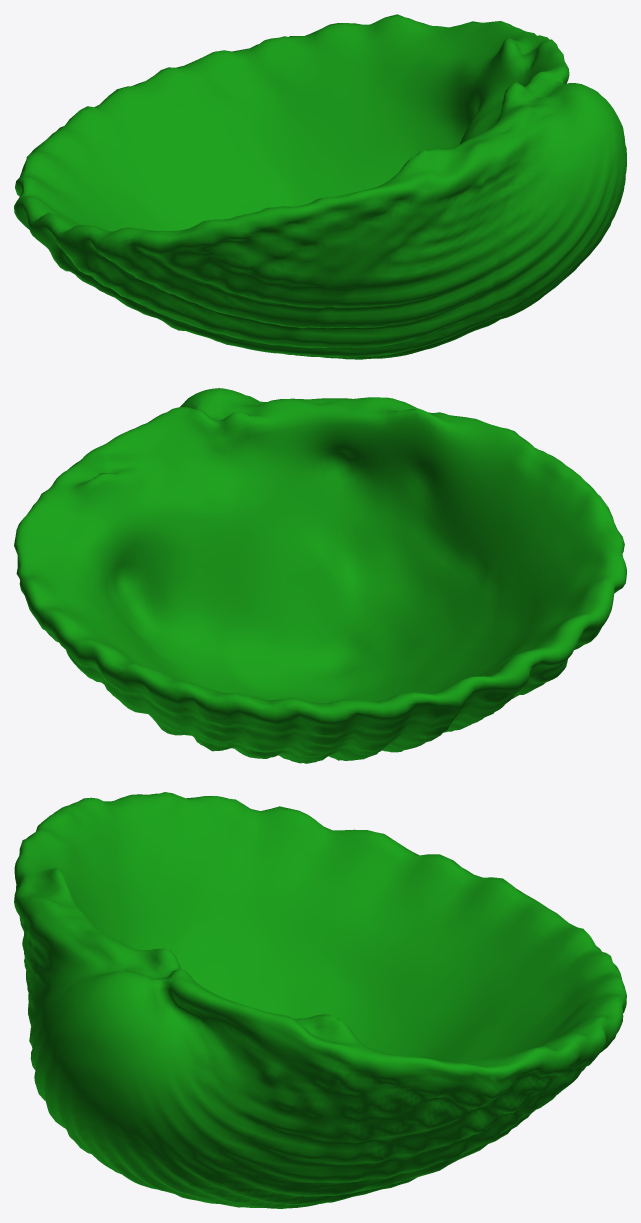
File: cockle.obj
3 views of the same model, one above another, from view 1: azimuth 30°, elevation 25°; view 2: azimuth 150°, elevation 25°; view 3: azimuth 270°, elevation 25° (orthographic). The views are drawn at different scales.
Parts seen in each view (by area): view 1: default; view 2: default; view 3: default.
Part boxes in pixels (x1,y1,x2,y2): default: (14, 14, 626, 359); default: (14, 388, 626, 763); default: (14, 792, 626, 1208).
Bounding box in the file's own units: 27.07 × 12.84 × 24.25.
